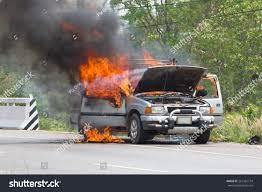fire: (76, 49, 142, 106), (71, 121, 129, 143), (142, 51, 175, 69)
